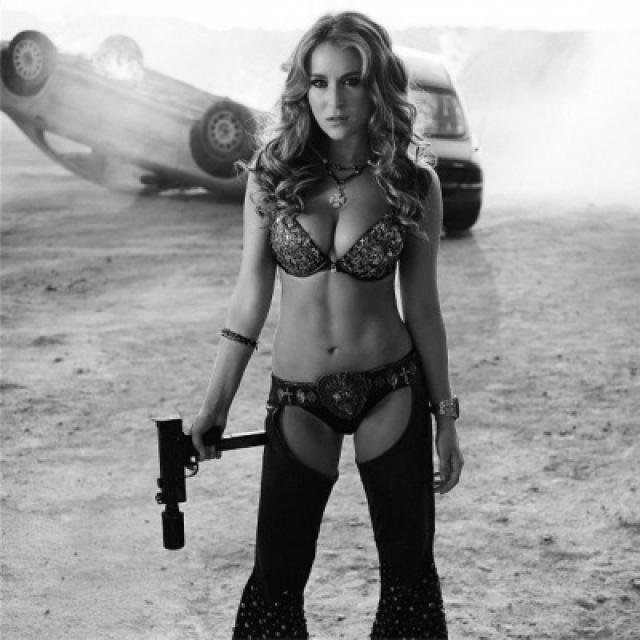weapons: (138, 377, 264, 559)
